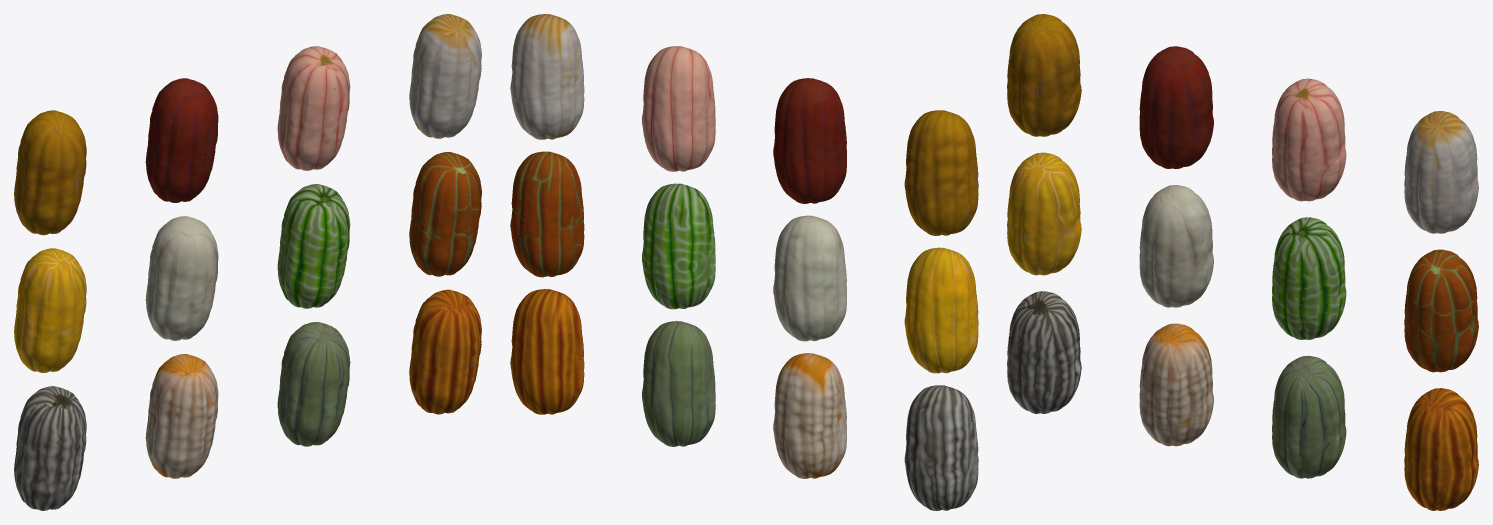
Rendered from gourd_grid.glb.
The picture shows the model from 3 angles, left to right: view 1: azimuth 30°, elevation 25°; view 2: azimuth 150°, elevation 25°; view 3: azimuth 330°, elevation 25°; orthographic projection.
Parts seen in each view (by area): view 1: tile11, tile05, tile03, tile01, tile08, tile09, tile10, tile07, tile00, tile04, tile06, tile02; view 2: tile06, tile04, tile00, tile02, tile10, tile11, tile03, tile08, tile07, tile05, tile01, tile09; view 3: tile04, tile00, tile02, tile03, tile10, tile06, tile08, tile11, tile05, tile01, tile07, tile09.
Part boxes in pixels (box(x1,y1,x2,y2)): tile11: box(409, 289, 481, 414); tile05: box(145, 216, 218, 340); tile03: box(409, 14, 481, 138); tile01: box(145, 78, 218, 202); tile08: box(14, 386, 86, 510); tile09: box(145, 354, 218, 478); tile10: box(277, 322, 350, 446); tile07: box(409, 152, 481, 276); tile00: box(14, 110, 86, 235); tile04: box(14, 248, 86, 372); tile06: box(277, 184, 350, 308); tile02: box(277, 46, 350, 170); tile06: box(642, 183, 715, 309); tile04: box(904, 247, 978, 373); tile00: box(904, 110, 978, 235); tile02: box(642, 46, 715, 171); tile10: box(642, 321, 715, 446); tile11: box(510, 289, 584, 414); tile03: box(510, 14, 584, 139); tile08: box(904, 385, 978, 510); tile07: box(510, 151, 584, 277); tile05: box(773, 215, 846, 341); tile01: box(773, 78, 846, 203); tile09: box(773, 353, 846, 478); tile04: box(1007, 152, 1081, 275); tile00: box(1007, 14, 1081, 136); tile02: box(1272, 78, 1346, 201); tile03: box(1404, 111, 1478, 233); tile10: box(1272, 355, 1346, 478); tile06: box(1272, 217, 1346, 339); tile08: box(1007, 291, 1081, 413); tile11: box(1404, 388, 1478, 510); tile05: box(1139, 185, 1213, 307); tile01: box(1139, 46, 1213, 168); tile07: box(1404, 249, 1478, 372); tile09: box(1139, 323, 1213, 446).
Bounding box in the file's own units: 4.1 × 3.36 × 0.5804.
12 materials, 12 textured.
